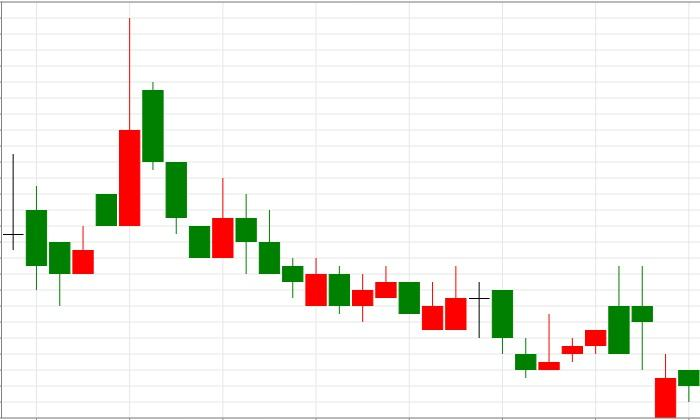three_black_crows_fall: (49, 17, 210, 305)
